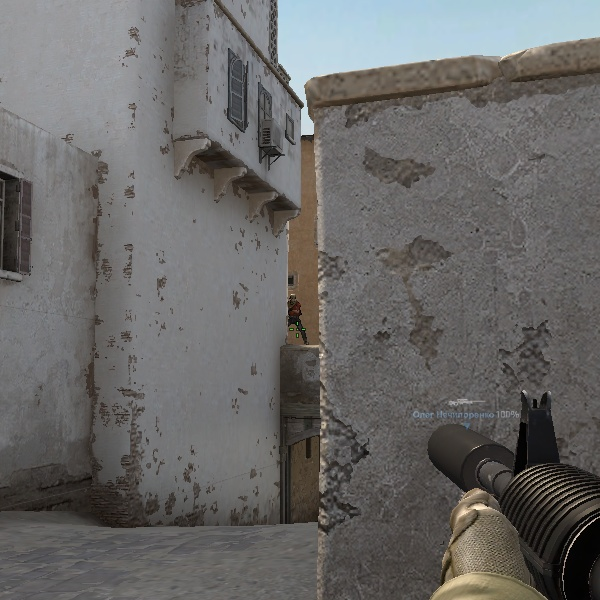t_body: (283, 293, 308, 342)
t_head: (289, 293, 297, 306)
